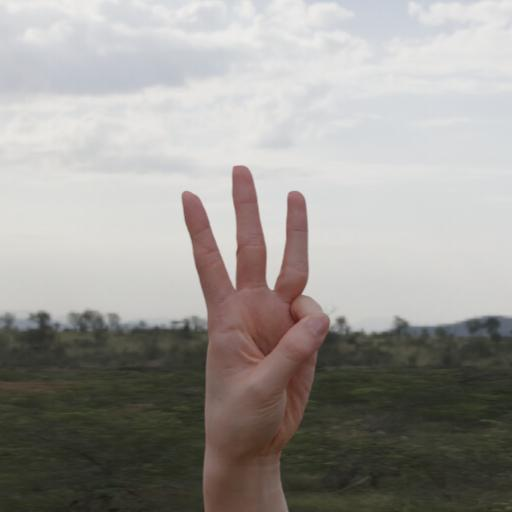W: (160, 138, 360, 478)
